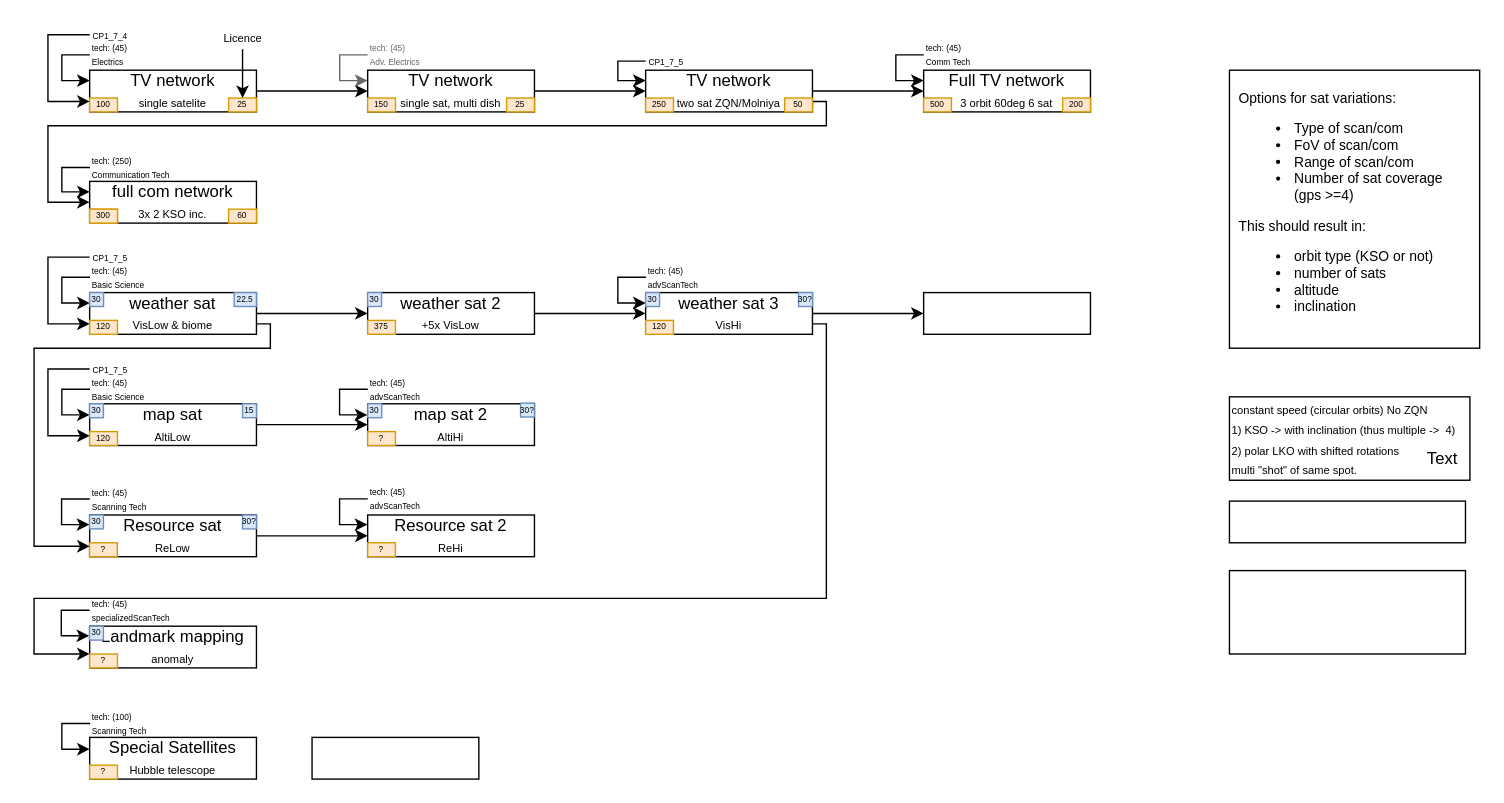
The diagram is 1504 pixels wide and 803 high, and some of its shapes have lost their labels. Each missing label, with the centre of its shape:
"4 sat in 55deg inc with 60deg shift medium alt (0.5 day)" goes at pixel 1346 521.
"gps network" goes at pixel 395 757.
"Hubble: needs Kerbol orbit (L1/L2)" goes at pixel 1346 611.
"weather sat 4 nx VisHi" goes at pixel 1006 312.
